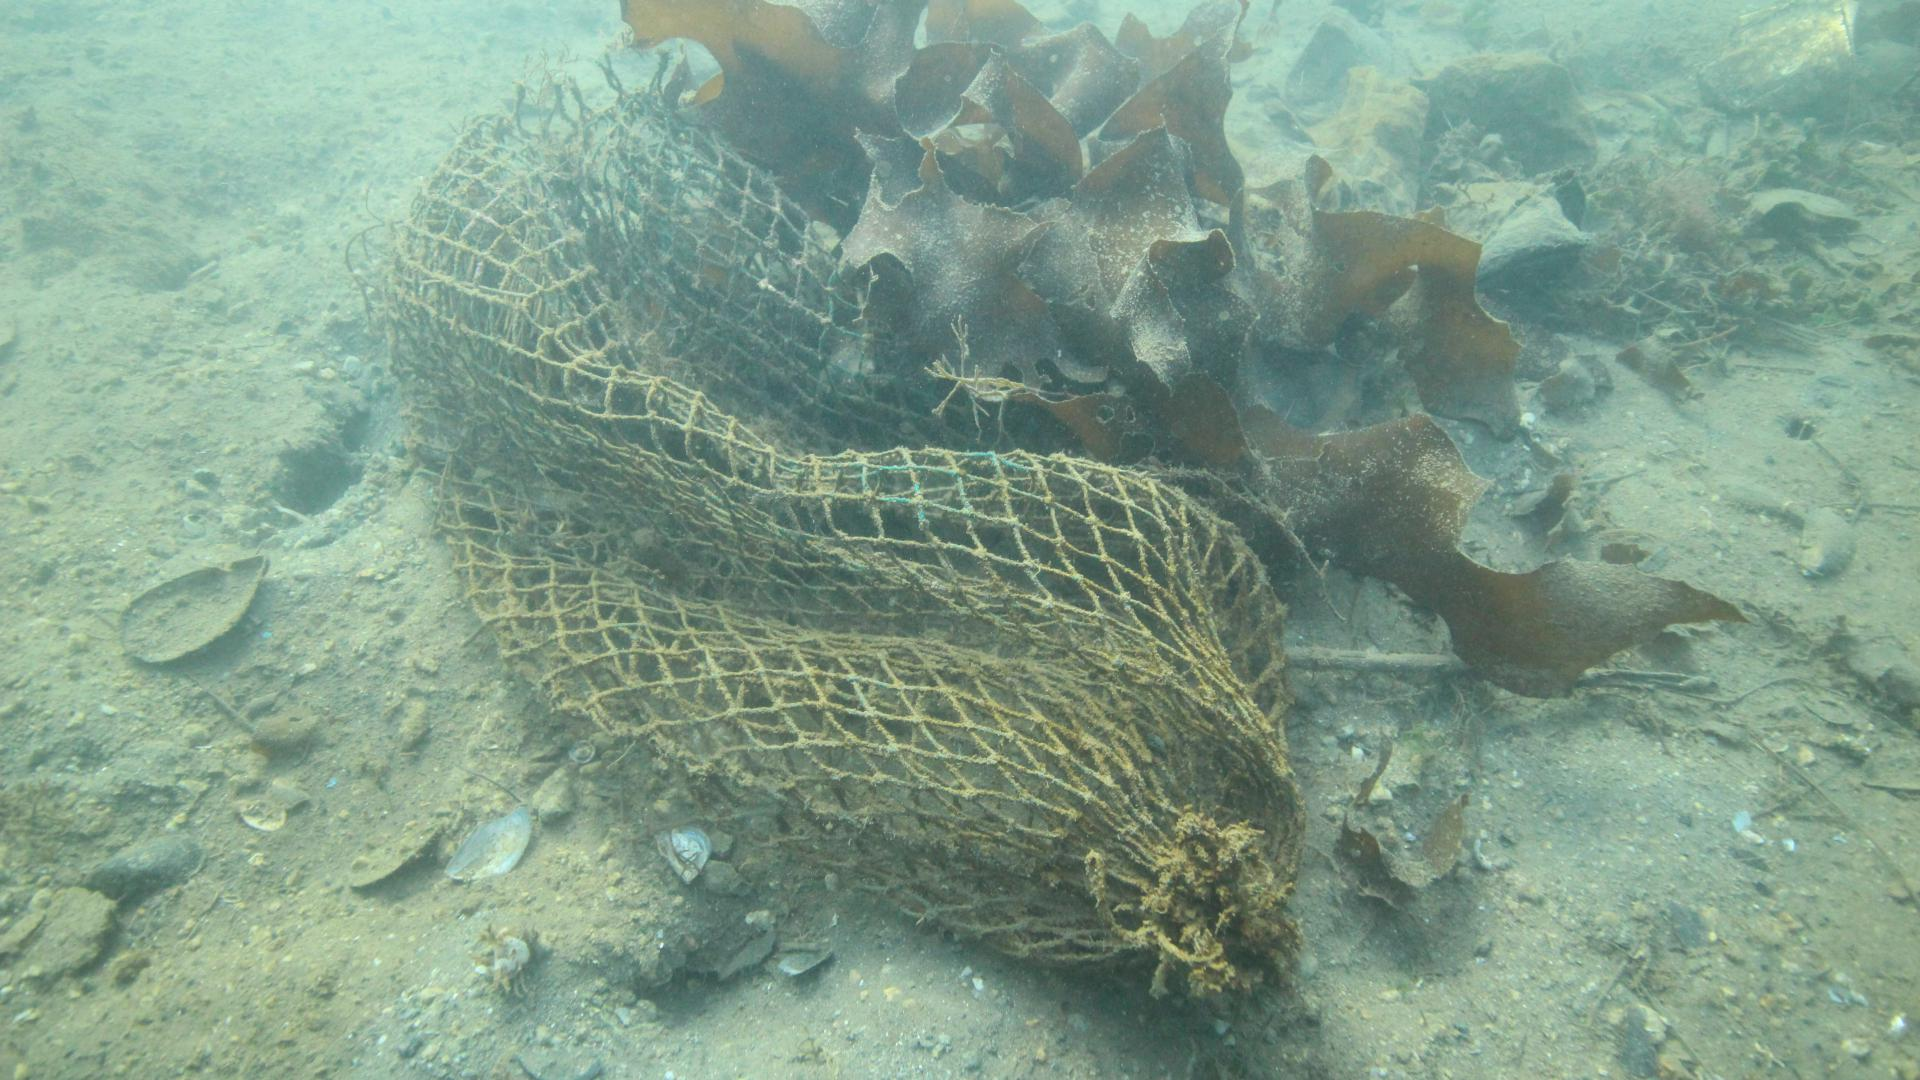fish net: (384, 113, 1305, 969)
